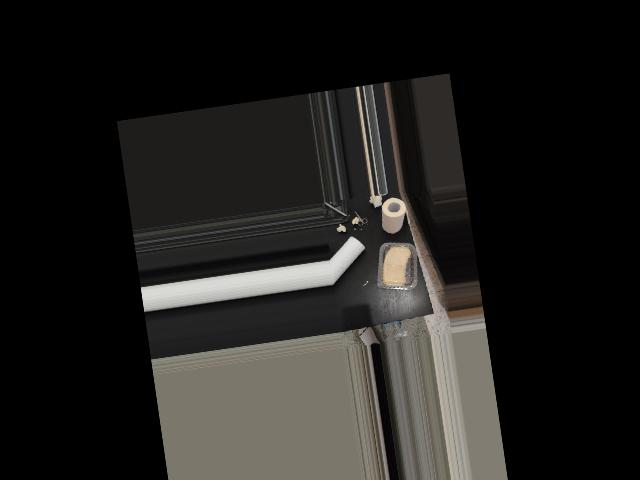cheese: (373, 239, 418, 294)
